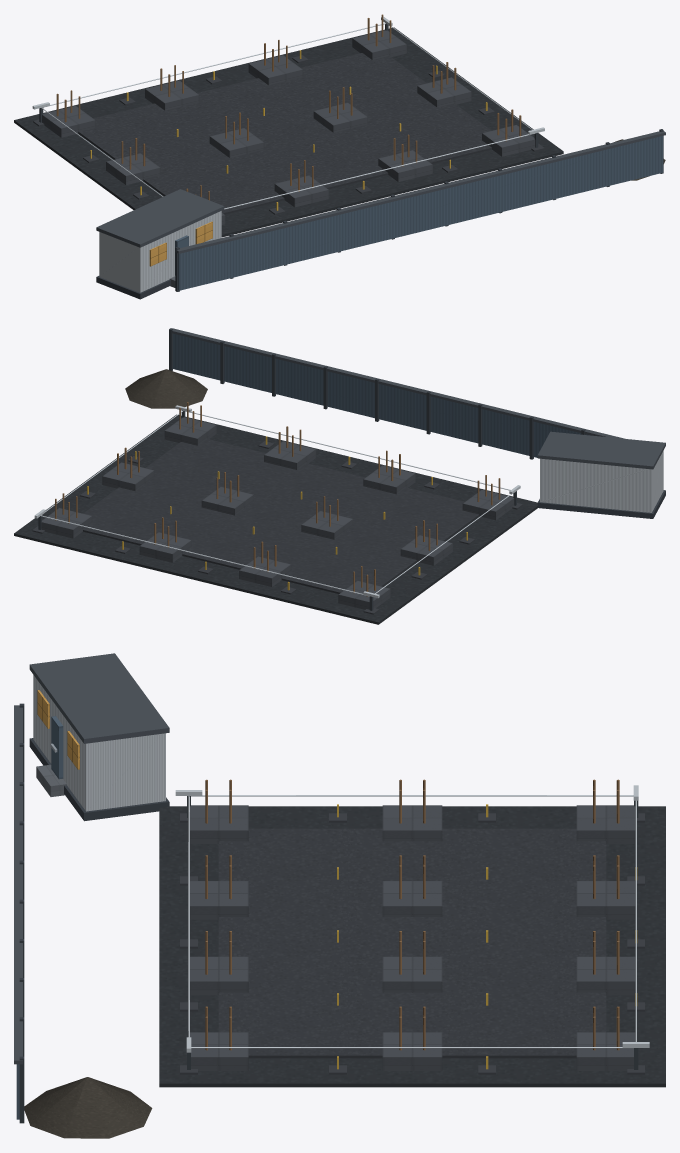
Rendered from trg-9-site.glb.
3 renders of one model, top to bottom at view 1: azimuth 30°, elevation 25°; view 2: azimuth 150°, elevation 25°; view 3: azimuth 270°, elevation 25°, orthographic. The views are drawn at different scales.
Size of the model in its own units: 31.98 by 3.1 by 21.87.
17 materials, 9 textured.
